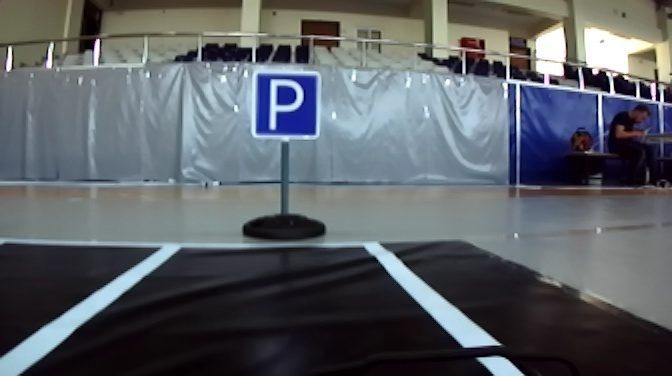park: (248, 67, 319, 140)
